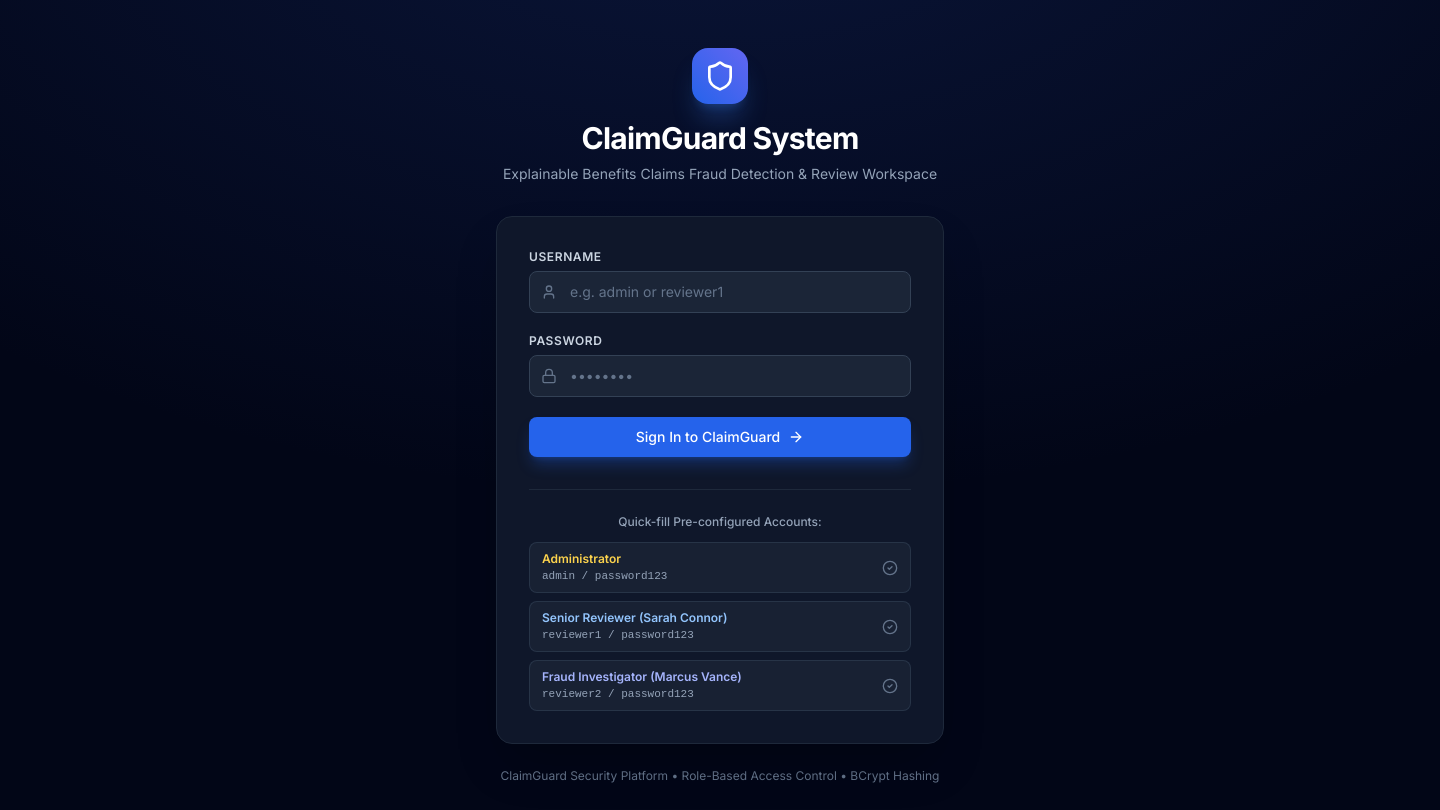
Test: LoginPage Component › clicking demo button populates username and password fields
What coordinates should you click on to do the following:
click the button "Administrator admin / password123"
I would click on:
 (582, 558)
Its box is [529,542,911,593].
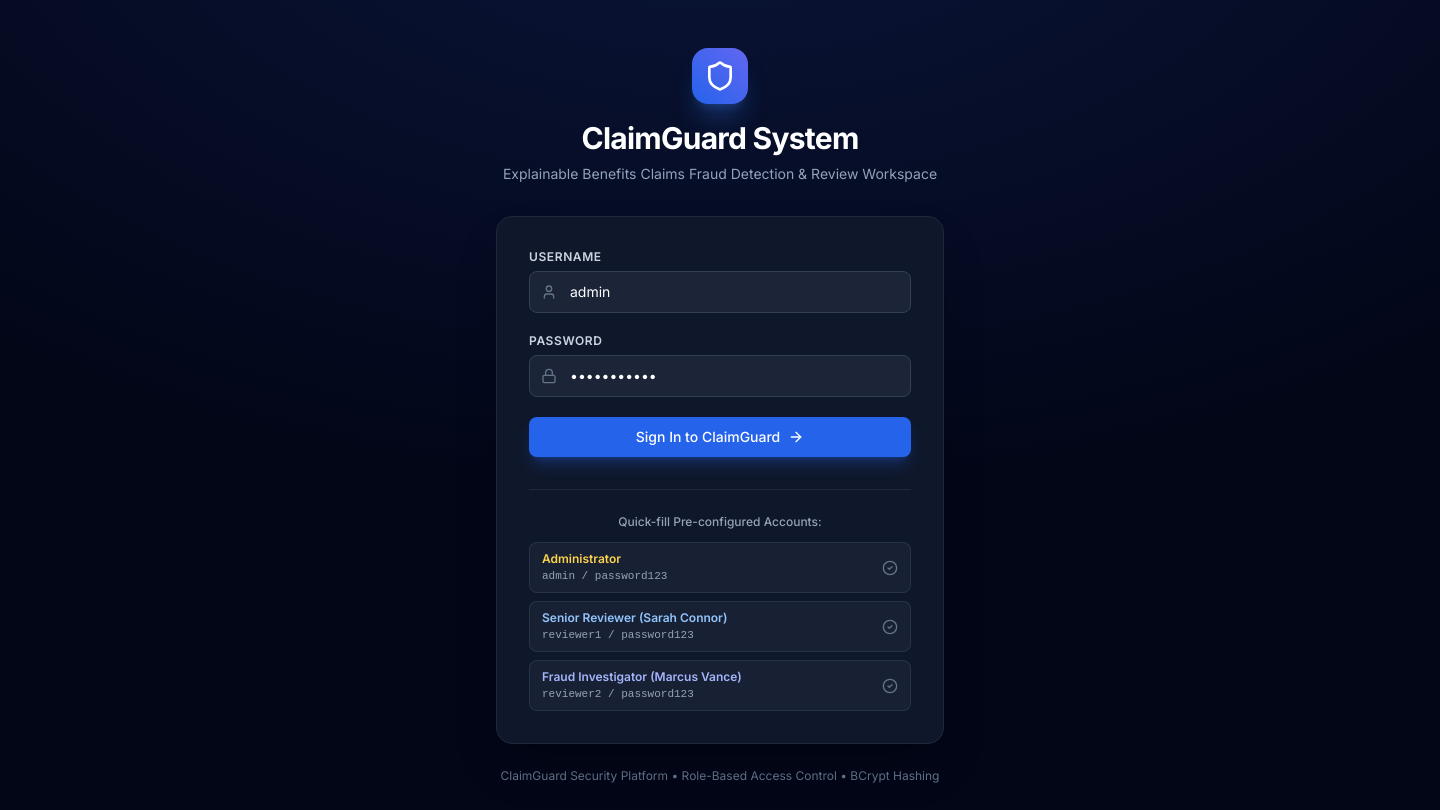
Now the field with placeholder "e.g. admin or reviewer1" holds "admin", box [529,271,911,313]
Now the password field with placeholder "••••••••" holds "password123", box [529,355,911,397]
